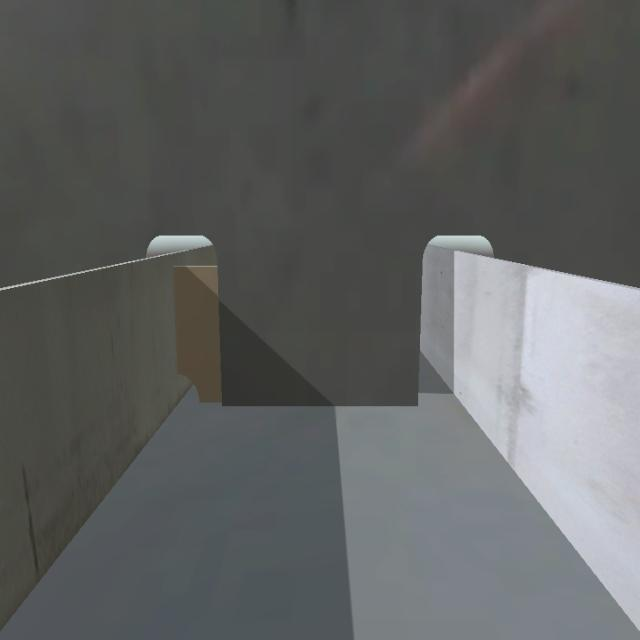fillet_hole: (198, 393, 420, 423), (180, 374, 200, 404)
longi_yong_jeop_jang: (166, 264, 183, 374)
plate_behind: (173, 263, 220, 402)
